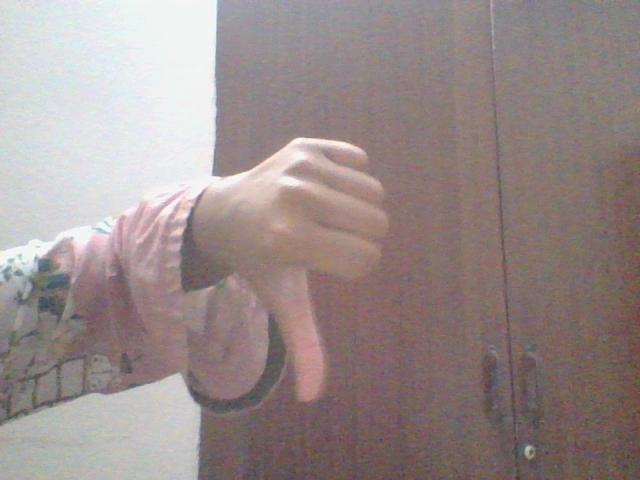thumbs-down: (248, 136, 405, 403)
